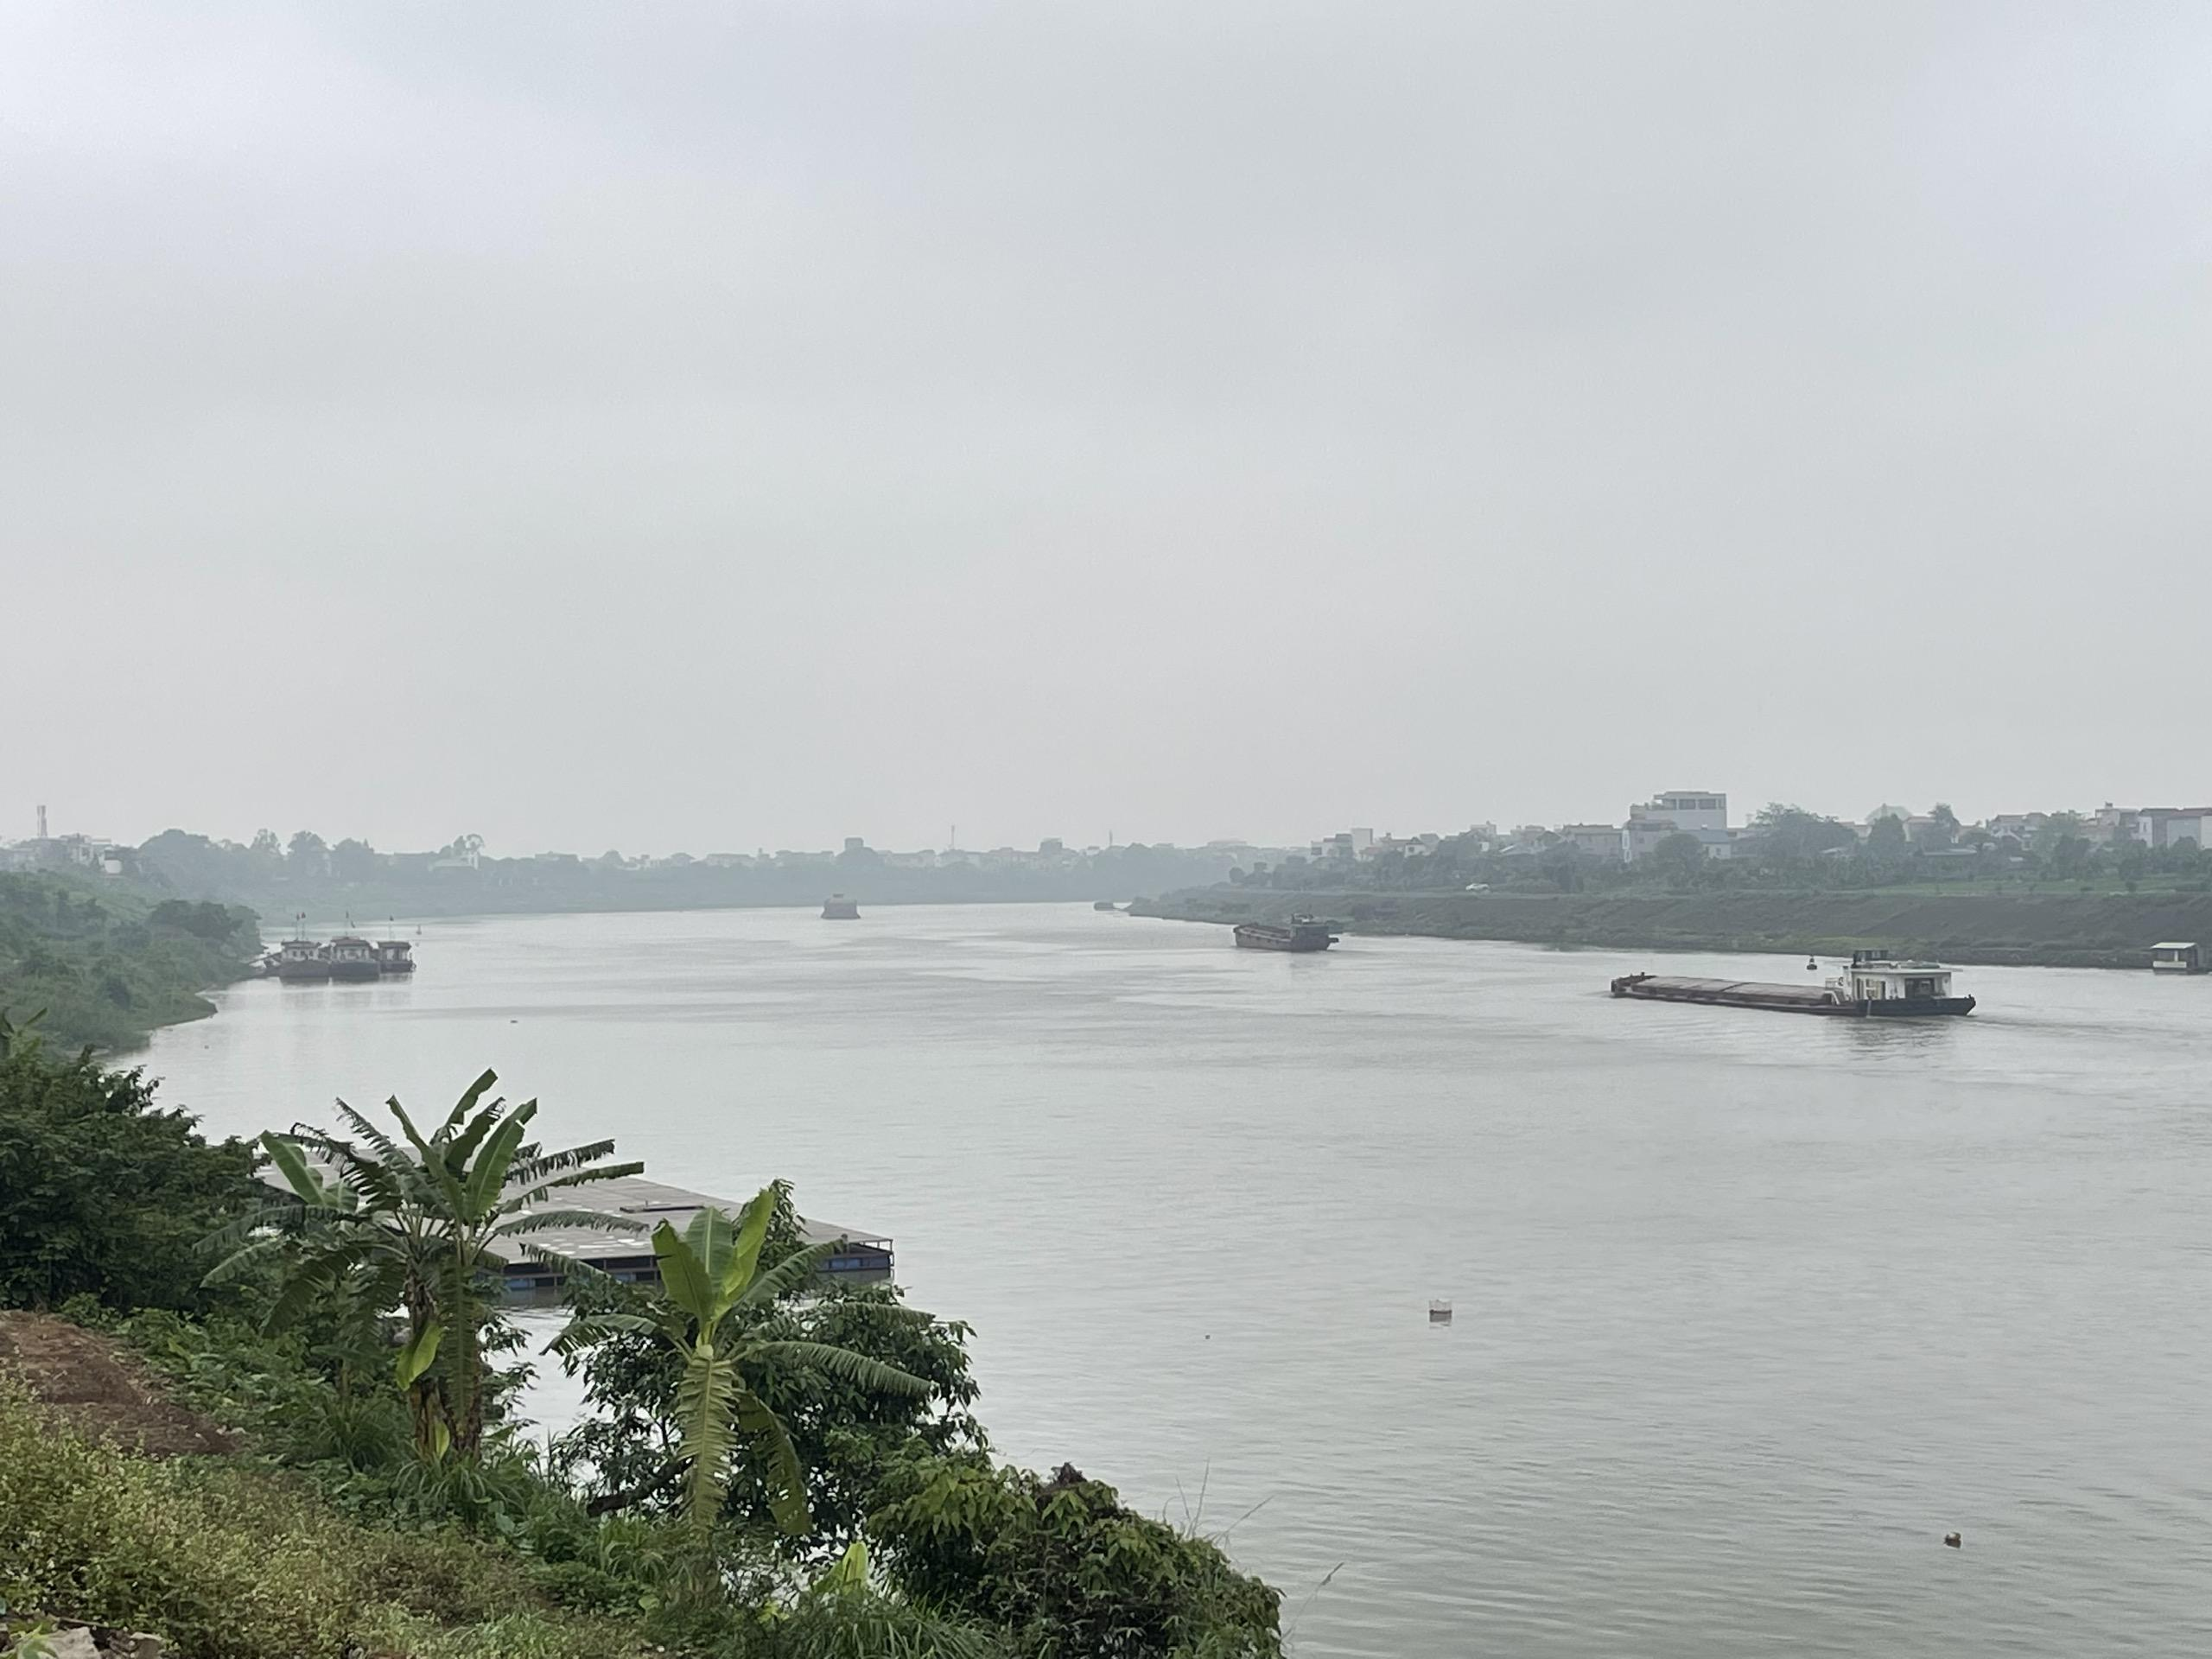Ship: (1592, 943, 2001, 1032), (1228, 910, 1345, 958)
